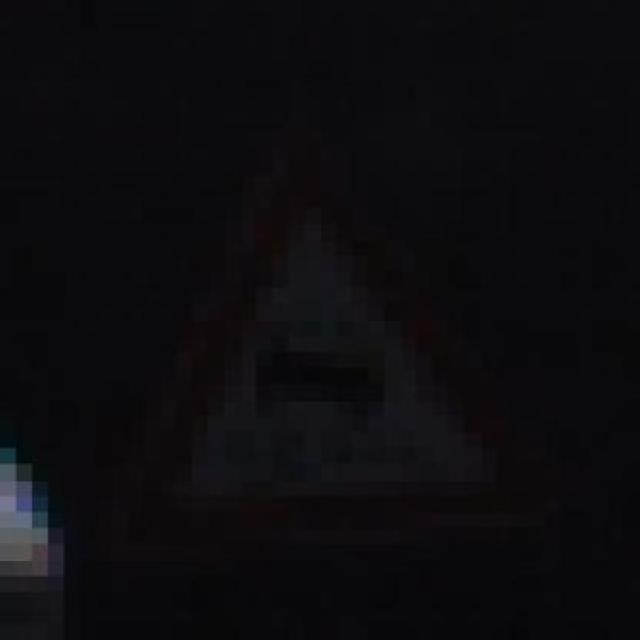Slippery Road Ahead: (96, 144, 544, 544)
